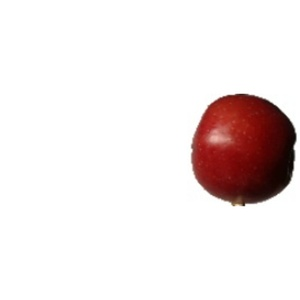maçã braeburn: (190, 92, 299, 205)
